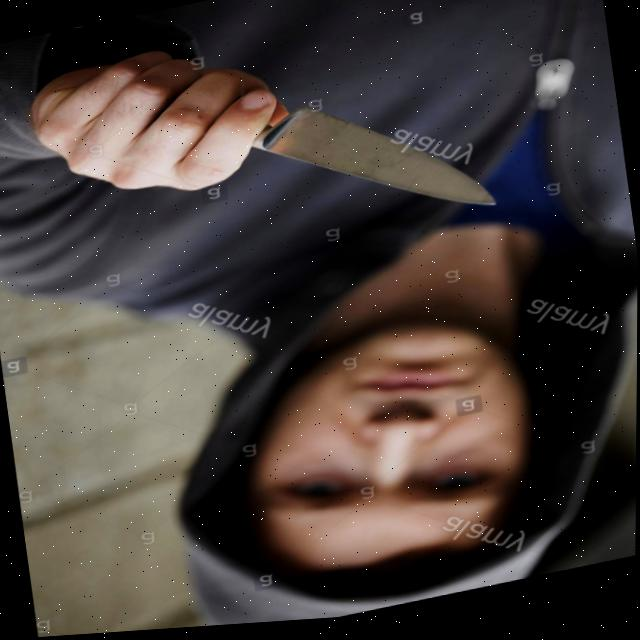knife: (252, 72, 517, 264)
